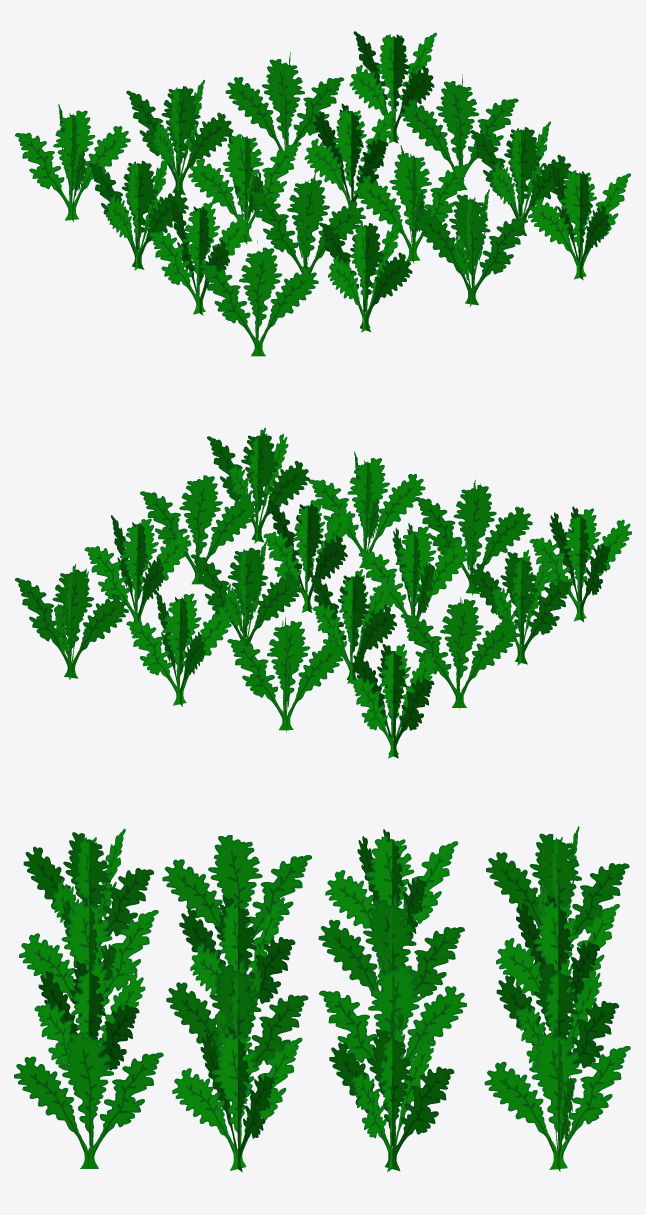
File: Carrot_F2.fbx
3 views of the same model, one above another, from view 1: azimuth 30°, elevation 25°; view 2: azimuth 150°, elevation 25°; view 3: azimuth 270°, elevation 25° (orthographic). The views are drawn at different scales.
Visible parts, largest first — view 1: Carrot_F2; view 2: Carrot_F2; view 3: Carrot_F2.
Part boxes in pixels (<box>): Carrot_F2: <box>15,31,630,356</box>; Carrot_F2: <box>15,427,631,758</box>; Carrot_F2: <box>14,826,630,1172</box>.
Size of the model in its own units: 216 by 52.64 by 216.
